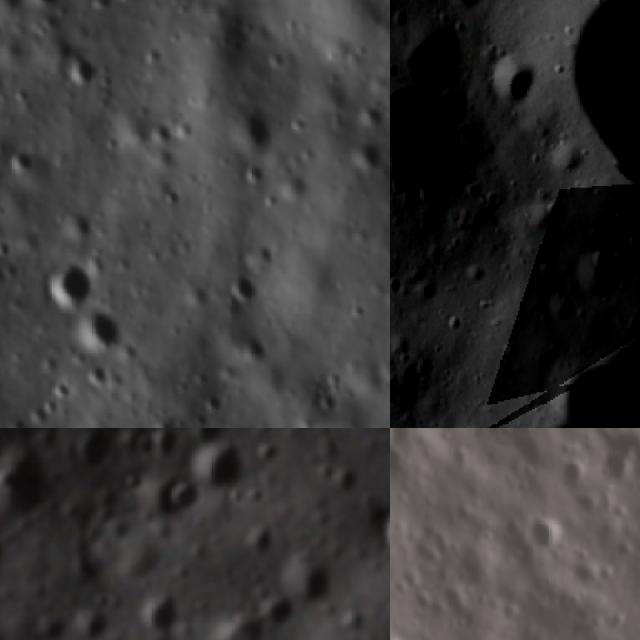crater: (534, 0, 640, 283), (390, 93, 481, 218), (0, 441, 65, 524), (400, 25, 471, 98), (184, 435, 251, 499), (279, 553, 342, 609), (48, 258, 98, 318), (489, 53, 542, 108), (69, 301, 125, 352), (573, 252, 626, 305), (134, 591, 189, 637), (66, 428, 117, 474), (207, 608, 276, 640), (154, 477, 203, 522), (55, 48, 103, 91), (69, 605, 118, 640), (350, 132, 390, 174), (526, 508, 562, 549), (538, 188, 573, 230), (390, 428, 417, 482), (227, 269, 267, 304), (555, 142, 590, 182), (2, 144, 38, 180), (373, 494, 390, 565), (411, 351, 445, 386), (444, 0, 495, 16), (390, 371, 408, 414)
